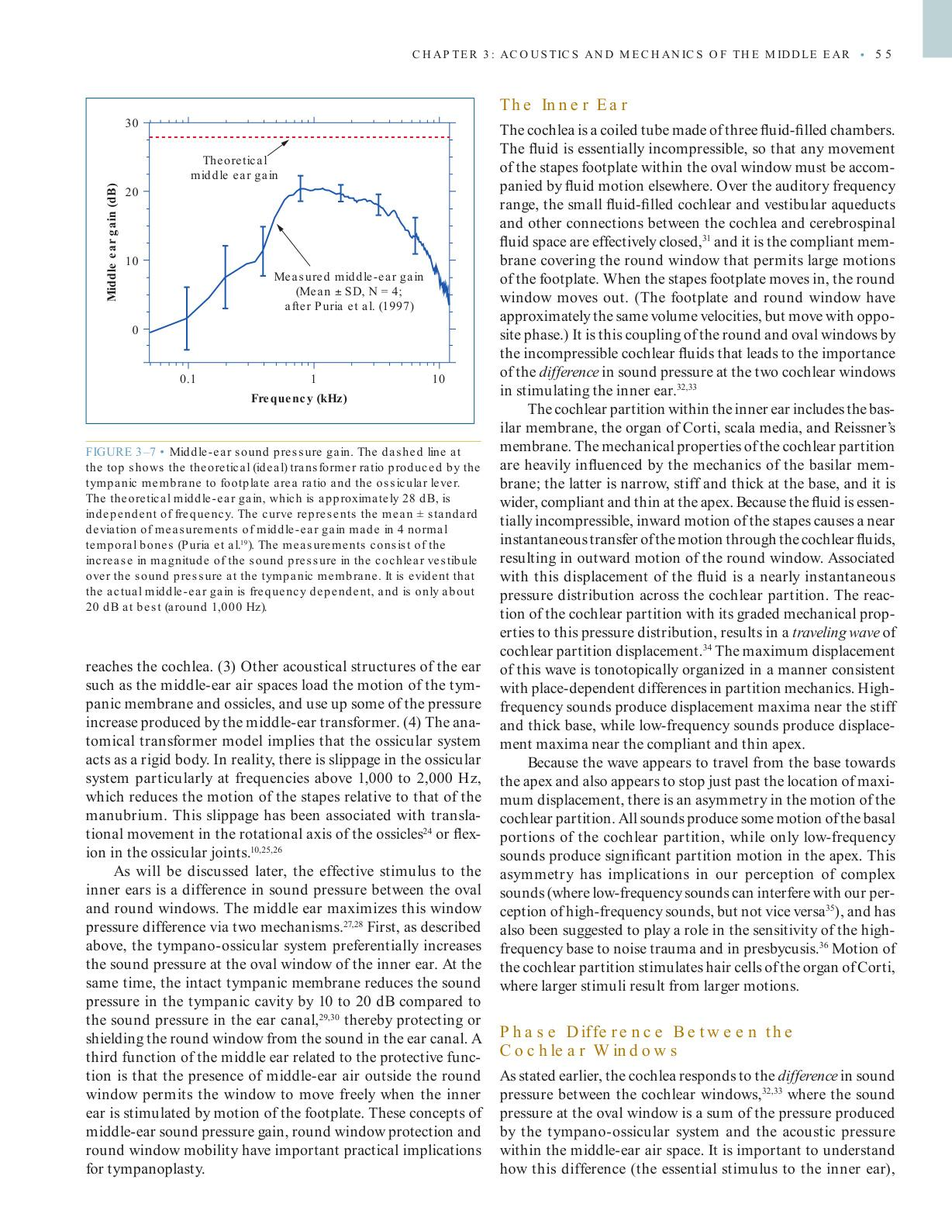caption: (84, 445, 482, 617)
header: (410, 48, 851, 60)
image: (92, 106, 465, 414)
section-heading: (498, 1024, 794, 1057), (497, 95, 629, 111)
text: (498, 122, 898, 996), (83, 656, 484, 1180), (499, 1066, 897, 1178)
